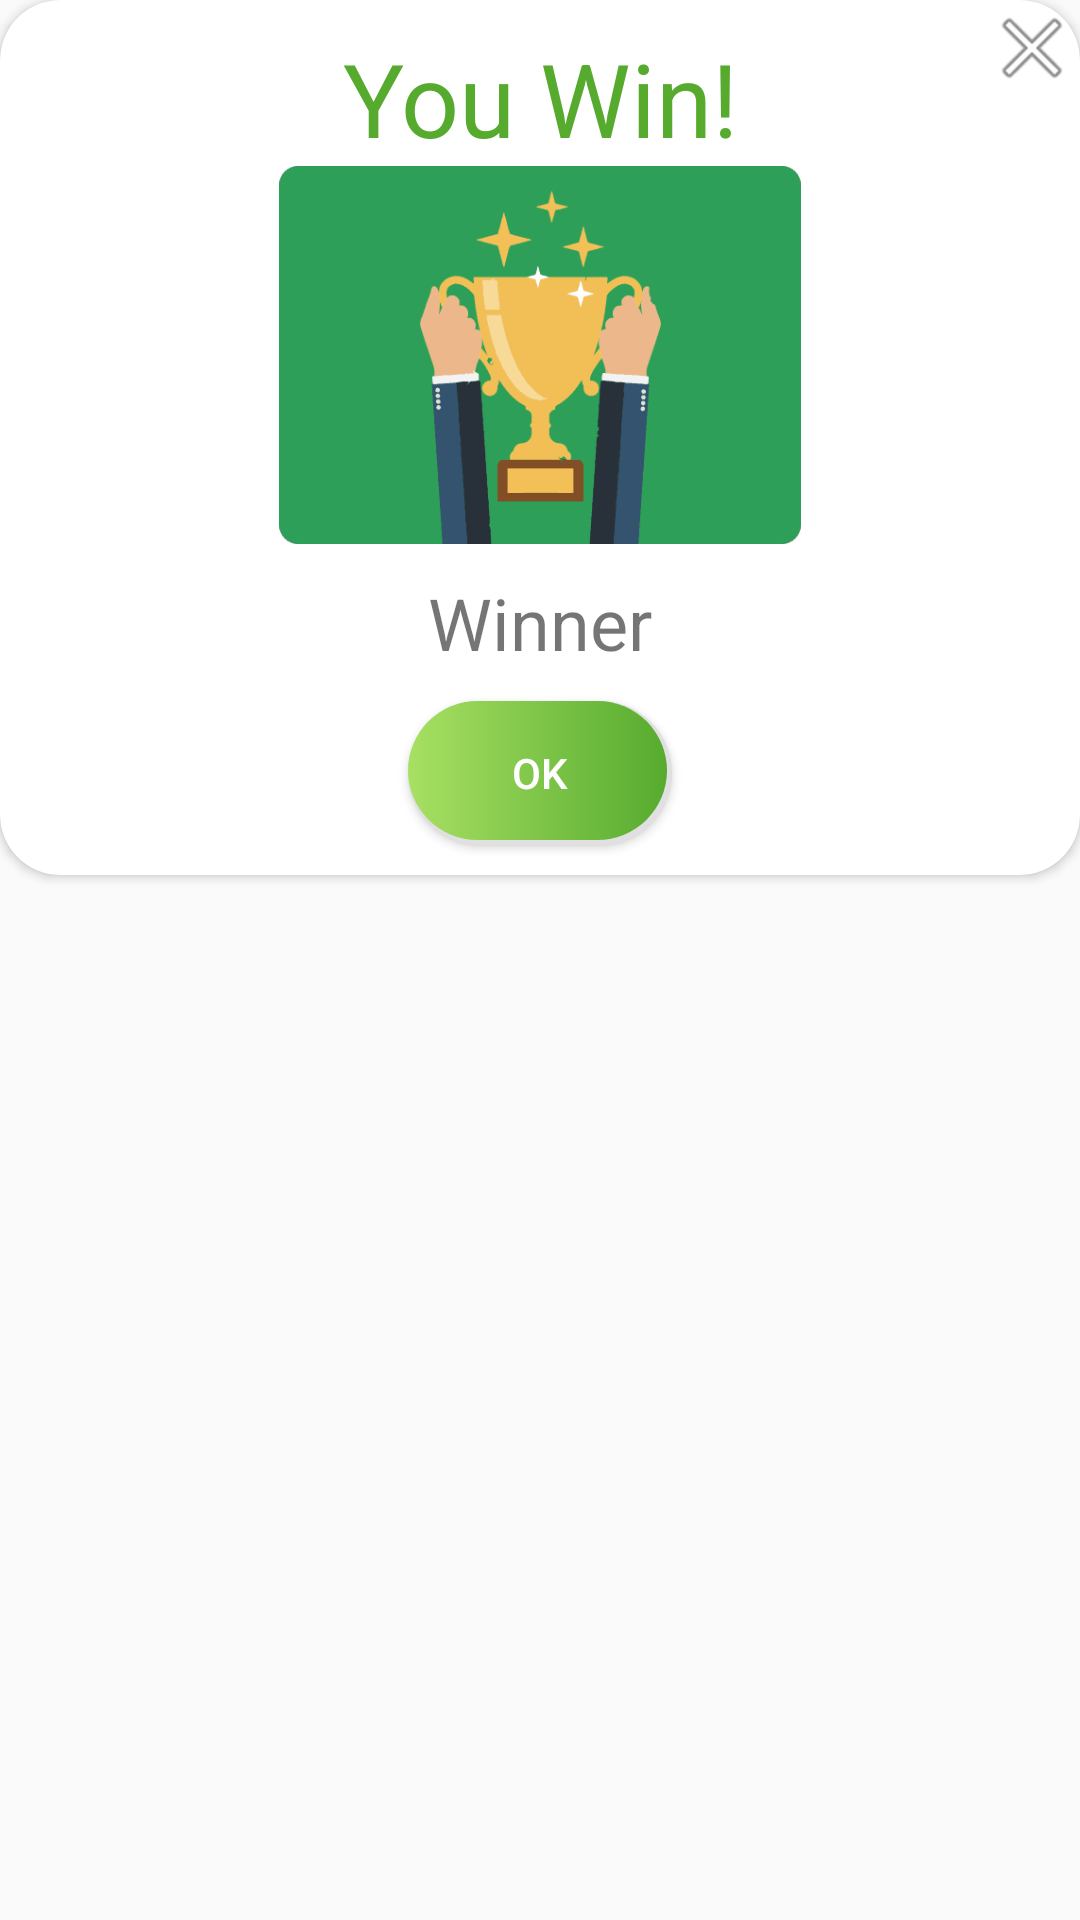

Icon click points for this 1080 x 1920 phone screenshot, format [x,y]:
close clear cancel: [1041,39]
